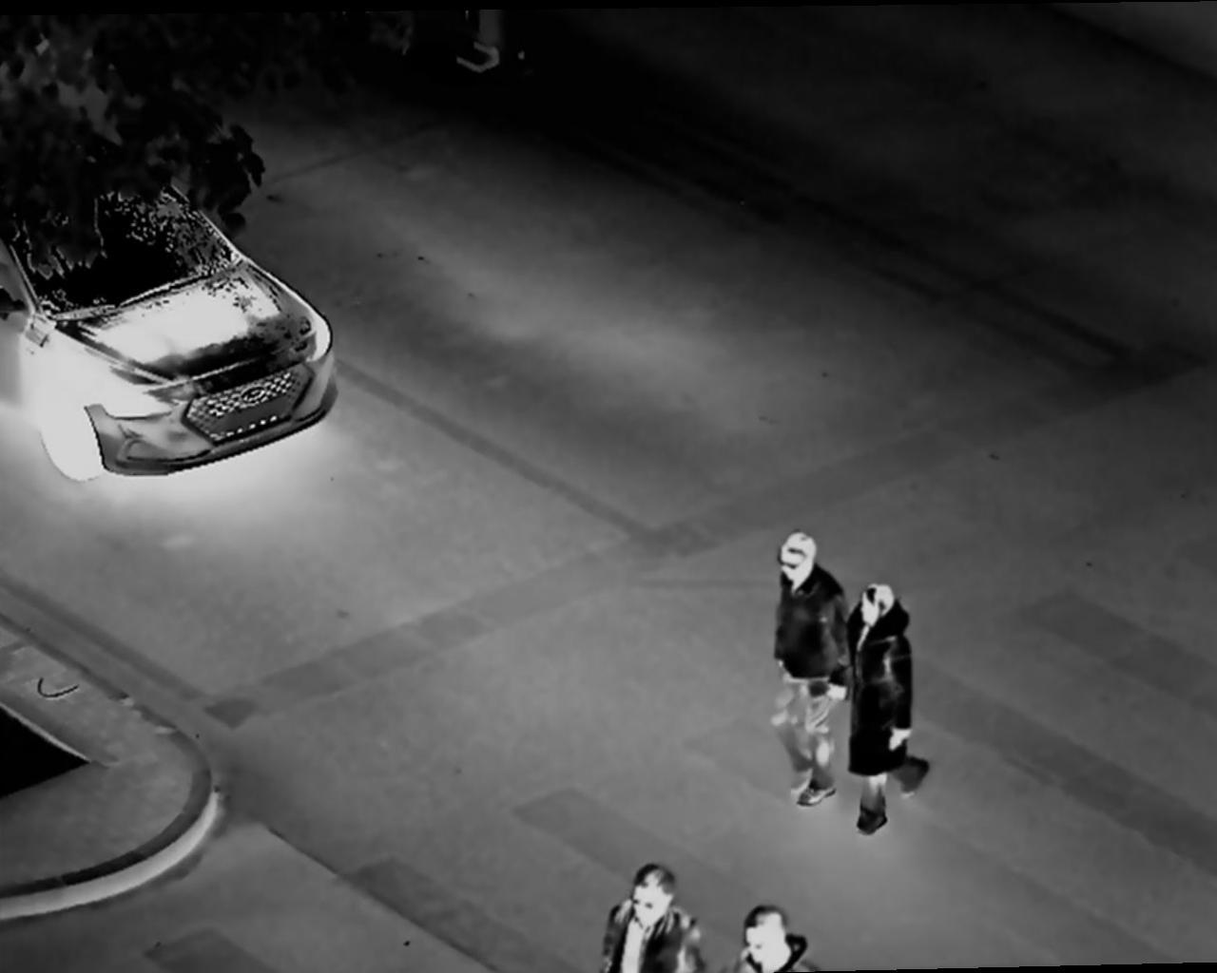person: (840, 581, 945, 832), (763, 524, 847, 811), (602, 856, 694, 973), (725, 904, 810, 973)
